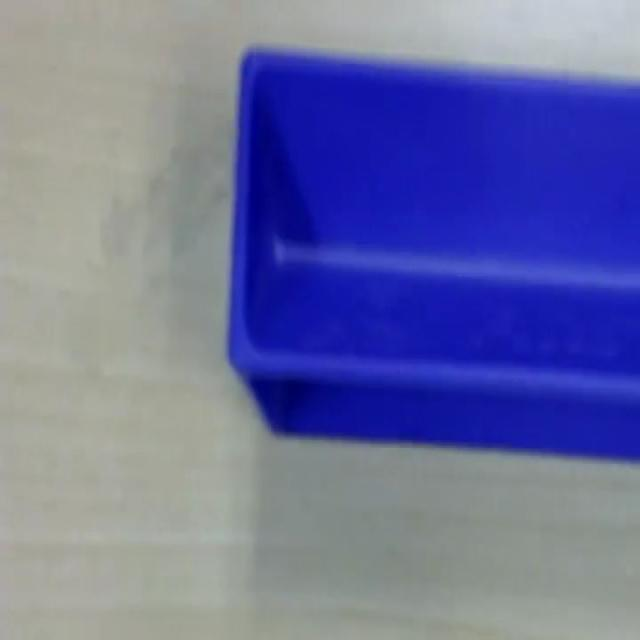blue_block: (225, 41, 639, 462)
